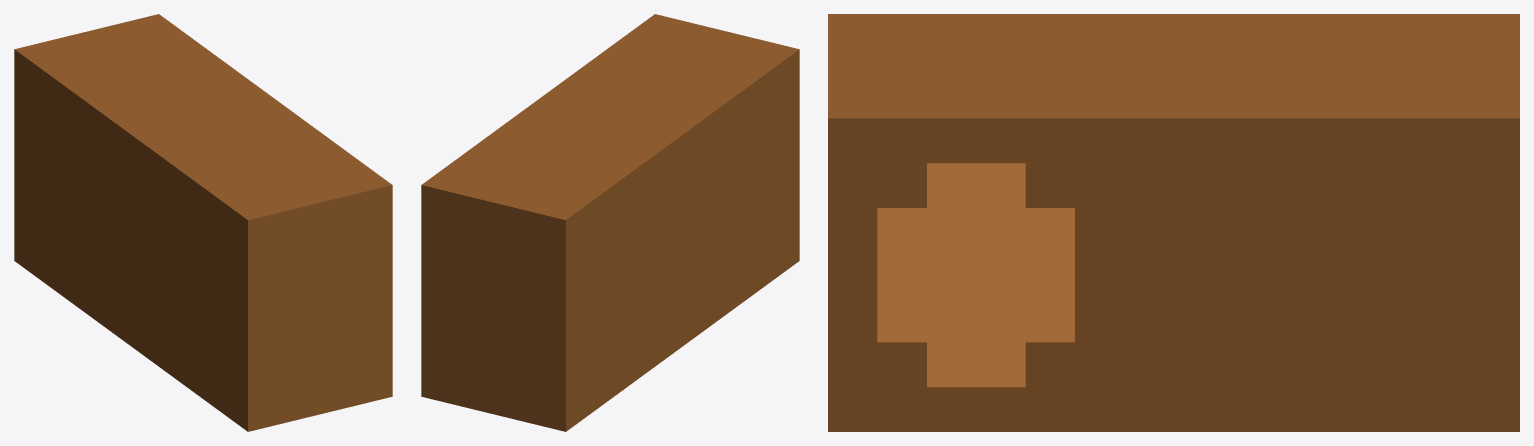
File: arm_right.glb
The picture shows the model from 3 angles, left to right: view 1: azimuth 30°, elevation 25°; view 2: azimuth 150°, elevation 25°; view 3: azimuth 270°, elevation 25°; orthographic projection. The views are drawn at different scales.
Parts seen in each view (by area): view 1: Node1; view 2: Node1; view 3: Node1.
Boxes of the visible parts, x1,y1,x2,y2 form: Node1: (14,14,392,431); Node1: (421,14,799,431); Node1: (828,14,1519,431).
Size of the model in its own units: 0.5 by 0.7 by 1.4.
1 material, 1 textured.
